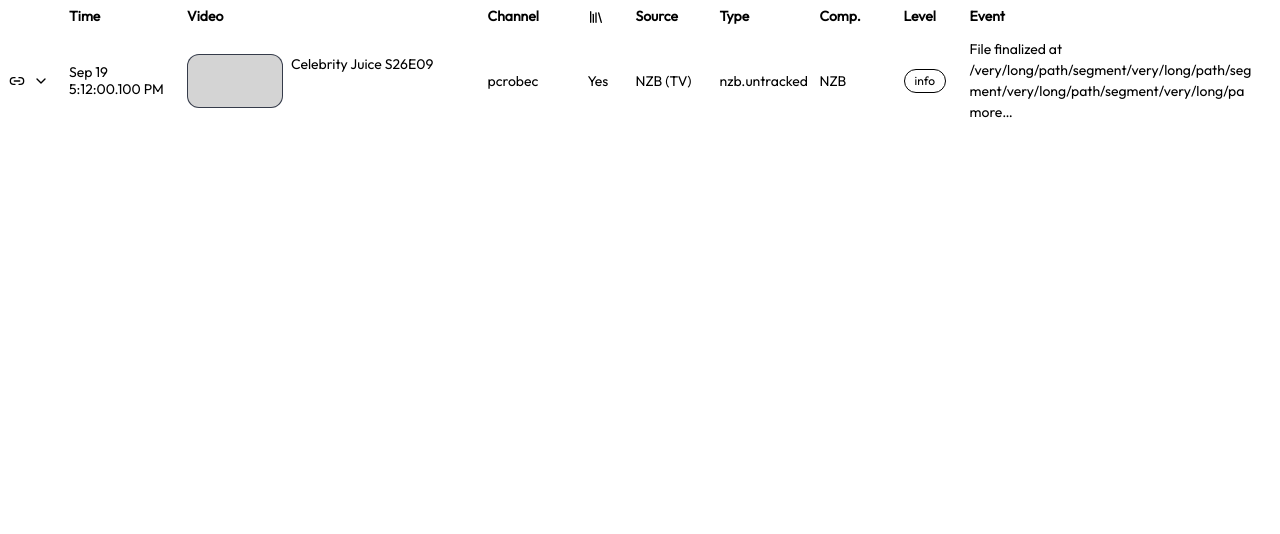
EventLogTable › desktop table › opens the row, showing the whole message, when more is clicked
Click the button "more…". click: click(991, 112)
box: [970,102,1013,123]
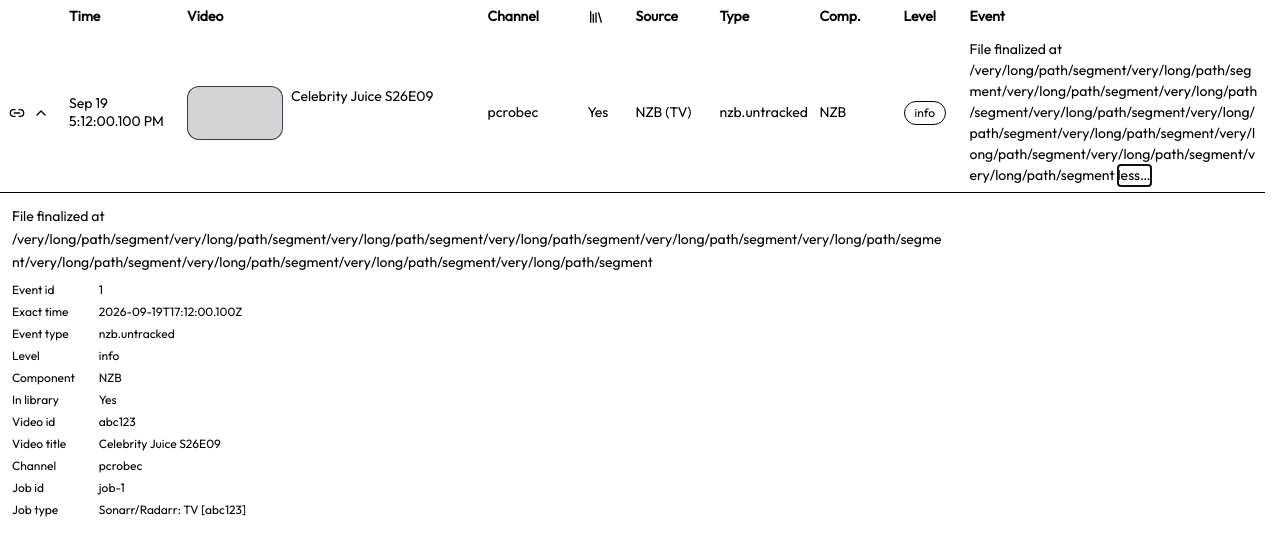
expect the button named "Hide details" is shown: met, box [29,100,53,124]
expect the button "more…" is gone: met
